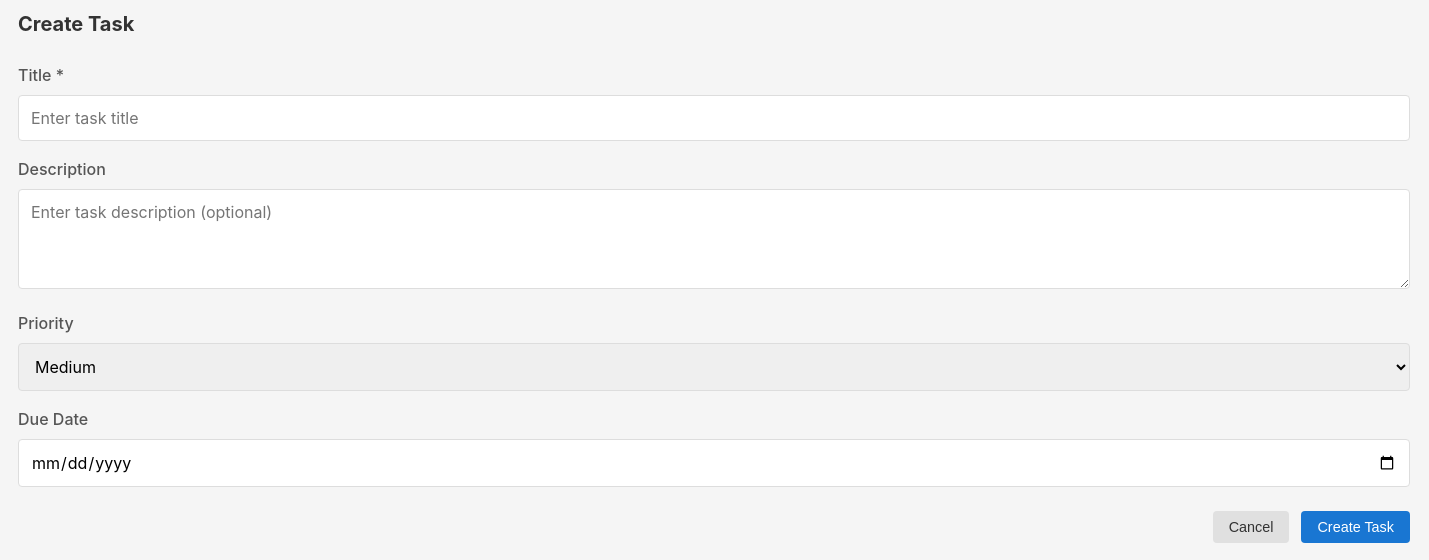
TaskForm › Form submission › disables buttons while submitting
In the field labelled "Title *": (714, 118) [18, 95, 1410, 141], type "Test"
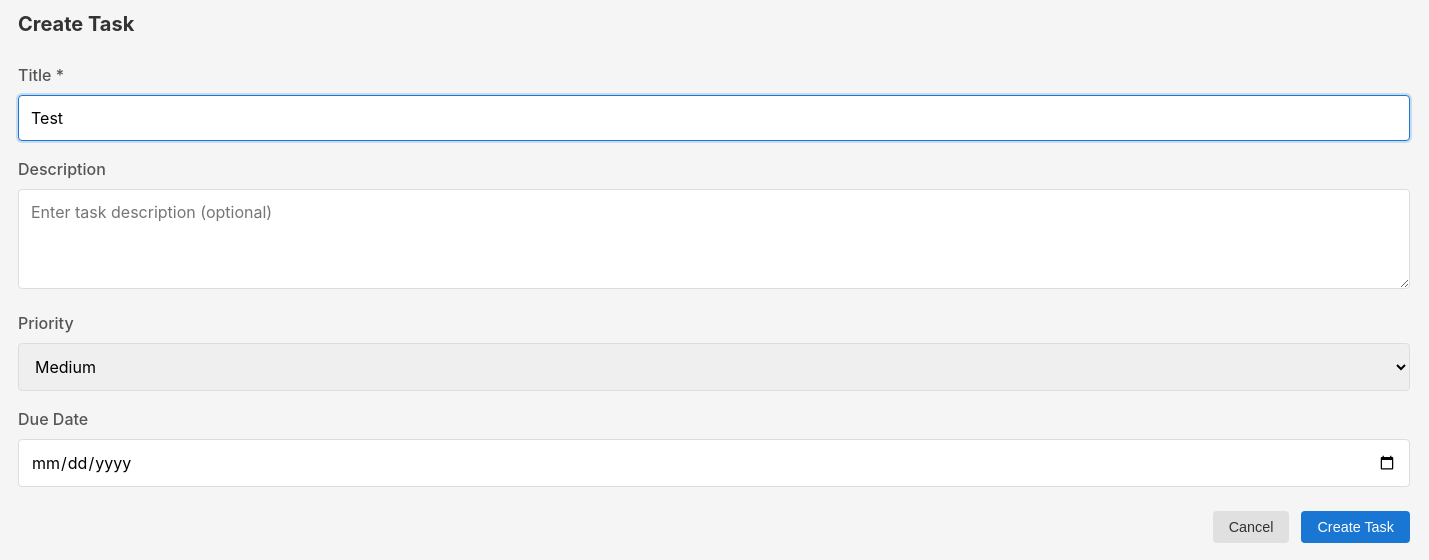
Submit the form from the button "Create Task", box [1302, 511, 1410, 543]
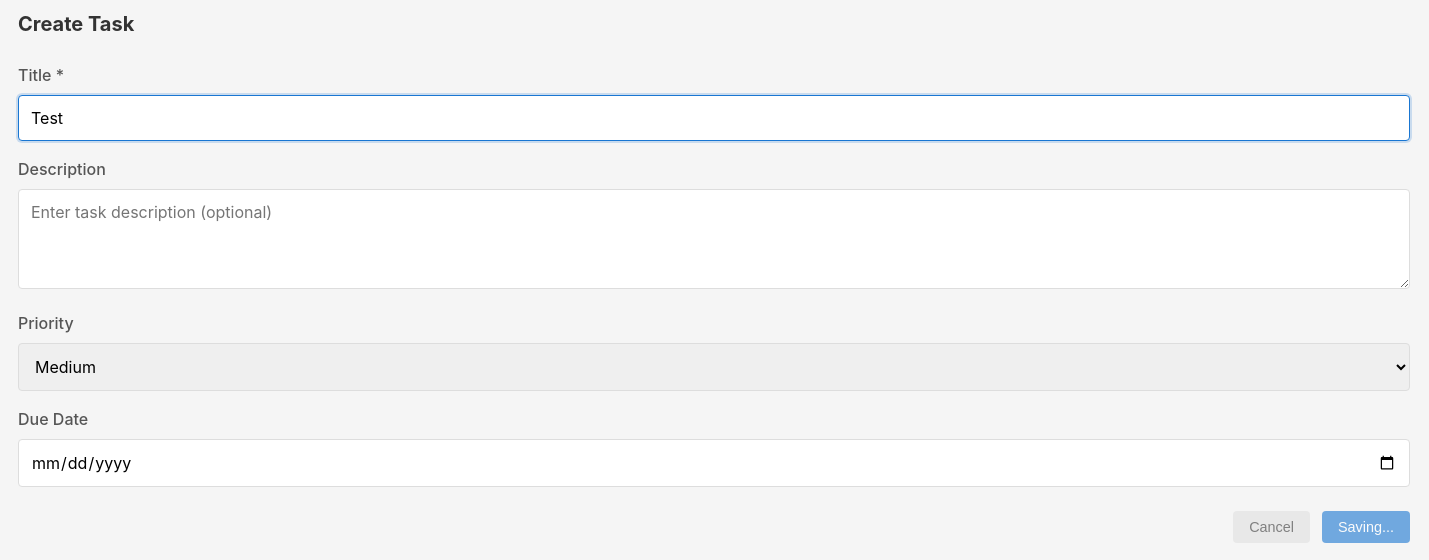
expect the button "Saving..." is disabled: met, box [1322, 511, 1410, 543]
expect the button "Cancel" is disabled: met, box [1233, 511, 1310, 543]
